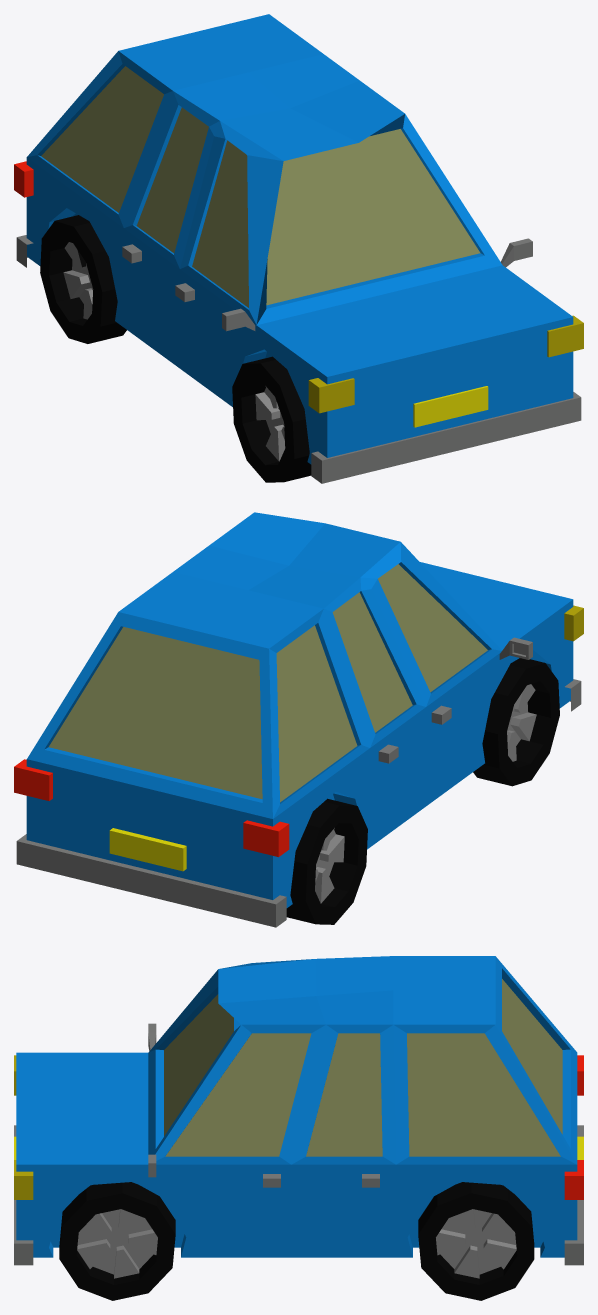
File: Car1.fbx
3 renders of one model, top to bottom at view 1: azimuth 30°, elevation 25°; view 2: azimuth 150°, elevation 25°; view 3: azimuth 270°, elevation 25°, orthographic. The views are drawn at different scales.
Visible parts, largest first — view 1: Car1; view 2: Car1; view 3: Car1.
Boxes of the visible parts, <box> form: Car1: <box>14,14,583,483</box>; Car1: <box>14,512,583,927</box>; Car1: <box>14,956,583,1300</box>.
Size of the model in its own units: 2.52 by 2.1 by 4.34.
